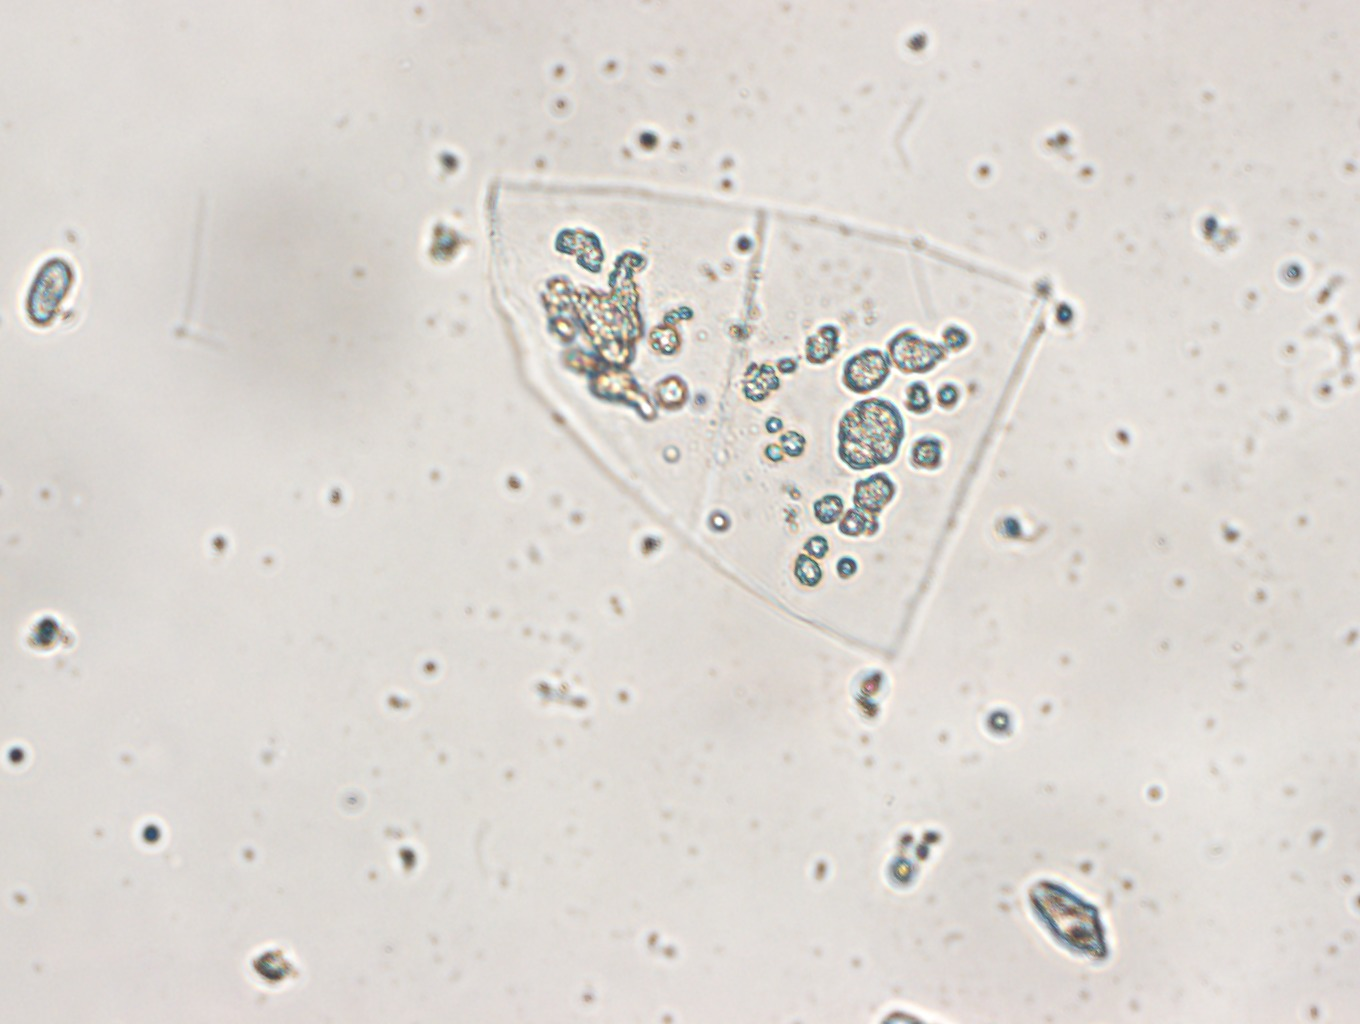helicotheca: (479, 174, 1057, 666)
